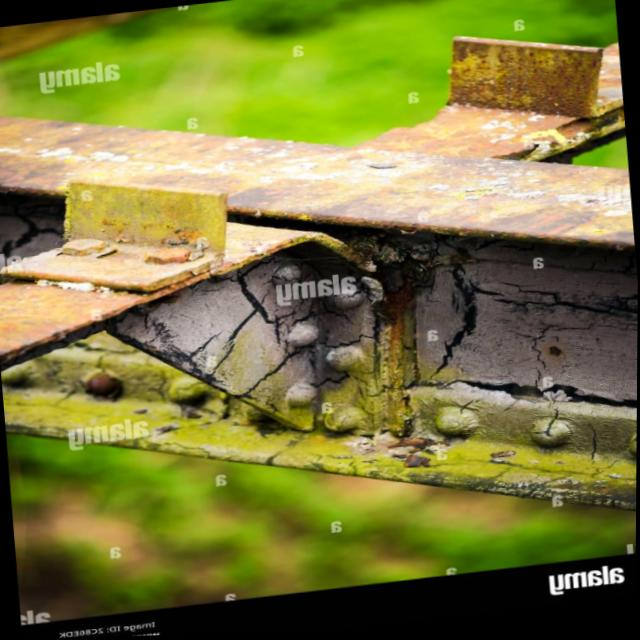Crack: (437, 270, 630, 416), (176, 265, 325, 417), (414, 243, 498, 386)
